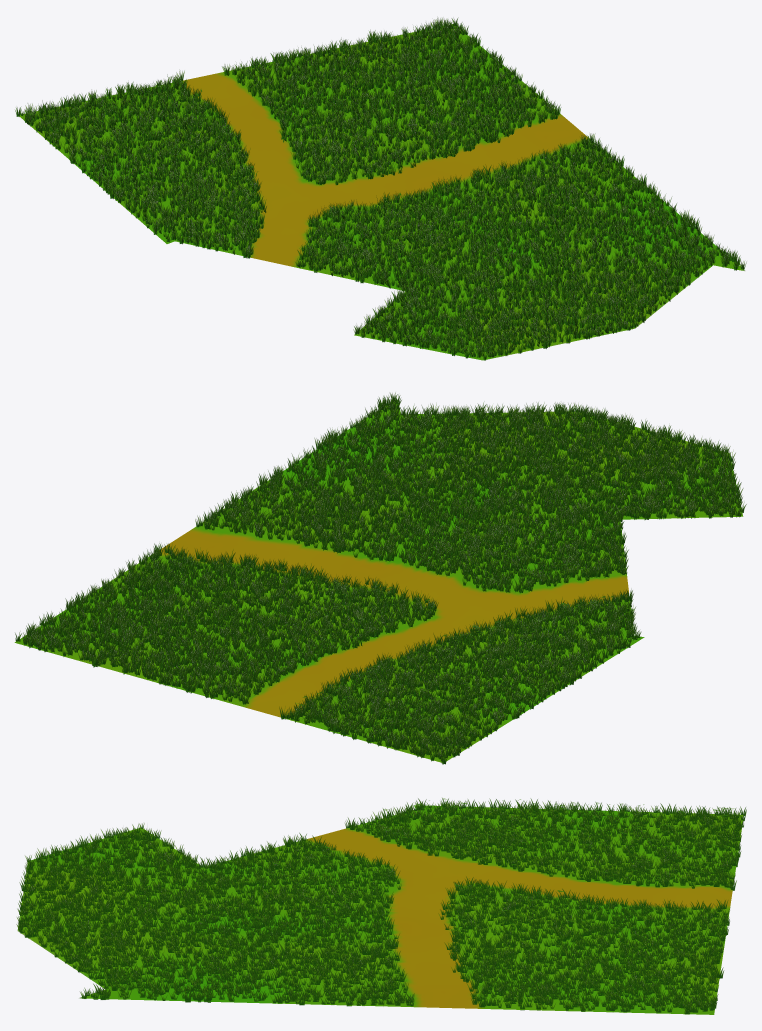
The model's file is ground.glb.
3 renders of one model, top to bottom at view 1: azimuth 30°, elevation 25°; view 2: azimuth 150°, elevation 25°; view 3: azimuth 270°, elevation 25°, orthographic. The views are drawn at different scales.
Visible parts, largest first — view 1: floor; view 2: floor; view 3: floor.
Part boxes in pixels (x1,y1,x2,y2): floor: (15, 18, 746, 360); floor: (14, 392, 746, 764); floor: (16, 798, 746, 1014).
Size of the model in its own units: 5.84 by 0.1774 by 8.55.
Materials: 1 (1 with a texture image).
